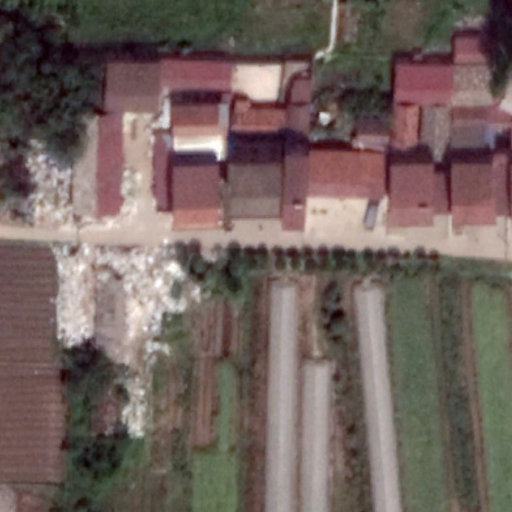msw: (50, 245, 198, 350), (25, 142, 73, 226)
